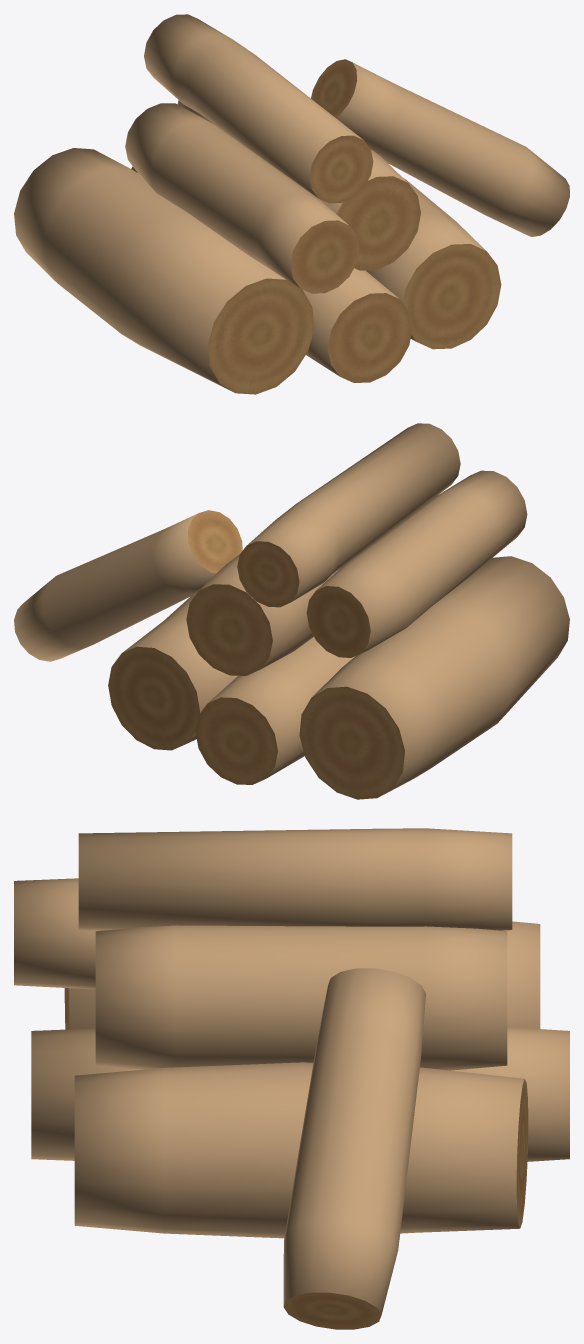
Rendered from Timber_Stack_1.fbx.
The picture shows the model from 3 angles, top to bottom: view 1: azimuth 30°, elevation 25°; view 2: azimuth 150°, elevation 25°; view 3: azimuth 270°, elevation 25°; orthographic projection. The views are drawn at different scales.
Visible parts, largest first — view 1: Cylinder.020, Cylinder.022, Cylinder.025, Cylinder.024, Cylinder.019, Cylinder.021, Cylinder.023; view 2: Cylinder.020, Cylinder.022, Cylinder.024, Cylinder.025, Cylinder.021, Cylinder.019, Cylinder.023; view 3: Cylinder.019, Cylinder.023, Cylinder.024, Cylinder.025, Cylinder.021, Cylinder.022, Cylinder.020.
Part boxes in pixels (x1,y1,x2,y2): Cylinder.020: (14,148,313,394); Cylinder.022: (125,103,359,293); Cylinder.025: (311,59,569,236); Cylinder.024: (144,14,373,203); Cylinder.019: (366,178,501,349); Cylinder.021: (131,166,412,382); Cylinder.023: (177,100,420,270); Cylinder.020: (299,556,569,799); Cylinder.022: (306,470,527,657); Cylinder.024: (237,423,460,607); Cylinder.025: (14,510,242,661); Cylinder.021: (195,637,355,784); Cylinder.019: (108,593,237,750); Cylinder.023: (186,554,338,675); Cylinder.019: (74,1062,528,1238); Cylinder.023: (95,925,507,1070); Cylinder.024: (78,828,512,930); Cylinder.025: (283,968,425,1329); Cylinder.021: (31,1027,569,1161); Cylinder.022: (14,878,100,989); Cylinder.020: (64,921,540,1029).
Size of the model in its own units: 116 by 58.47 by 89.35.
